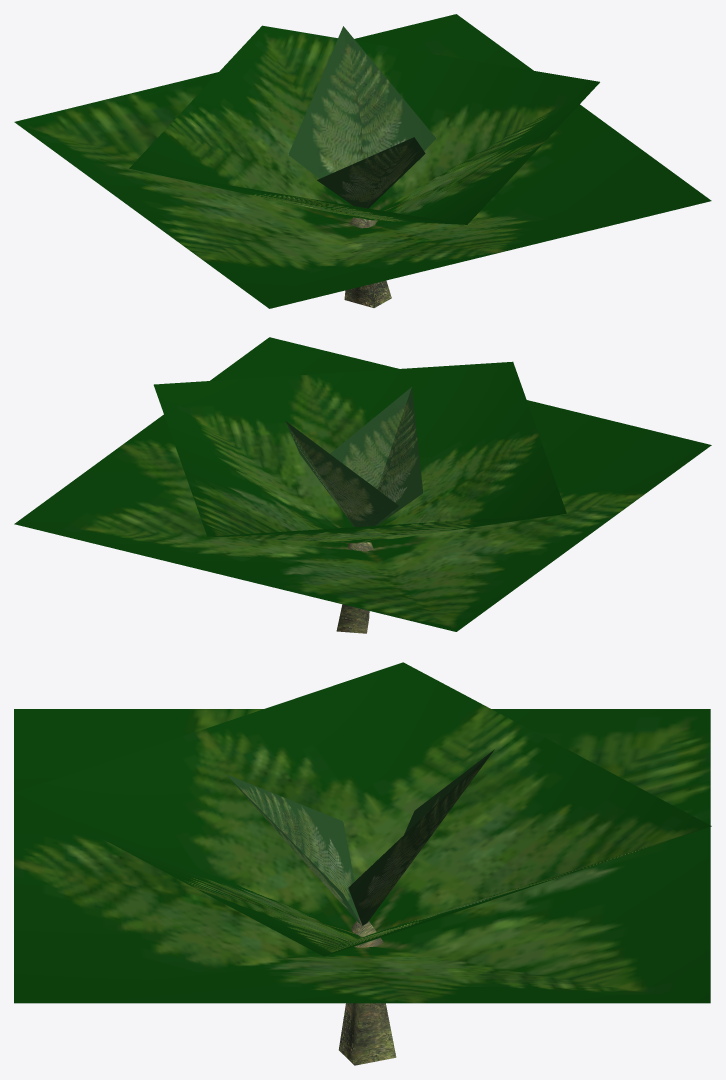
File: fern_giantfern_l1.fbx
3 renders of one model, top to bottom at view 1: azimuth 30°, elevation 25°; view 2: azimuth 150°, elevation 25°; view 3: azimuth 270°, elevation 25°, orthographic. The views are drawn at different scales.
Visible parts, largest first — view 1: mesh_node; view 2: mesh_node; view 3: mesh_node.
Part boxes in pixels (x1,y1,x2,y2): mesh_node: (14,14,711,308); mesh_node: (14,337,711,633); mesh_node: (14,662,711,1065).
Bounding box in the file's own units: 3.5 × 1.76 × 3.49.
2 materials, 2 textured.
